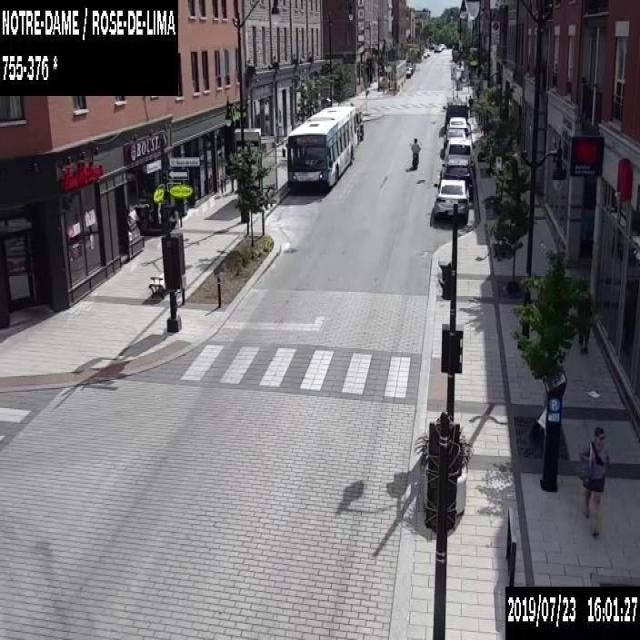bus: (281, 105, 357, 191)
cyclist: (410, 137, 420, 169)
pedestrian: (576, 427, 609, 536), (577, 321, 592, 355), (576, 290, 592, 314), (467, 94, 473, 115)
vehicle: (433, 178, 471, 223), (441, 157, 472, 200), (442, 136, 474, 168), (446, 116, 467, 135), (443, 127, 467, 142), (356, 110, 363, 144), (406, 61, 414, 74), (404, 66, 410, 77), (433, 45, 440, 52), (424, 48, 430, 56), (428, 42, 434, 49), (438, 43, 444, 49), (422, 50, 427, 57)
